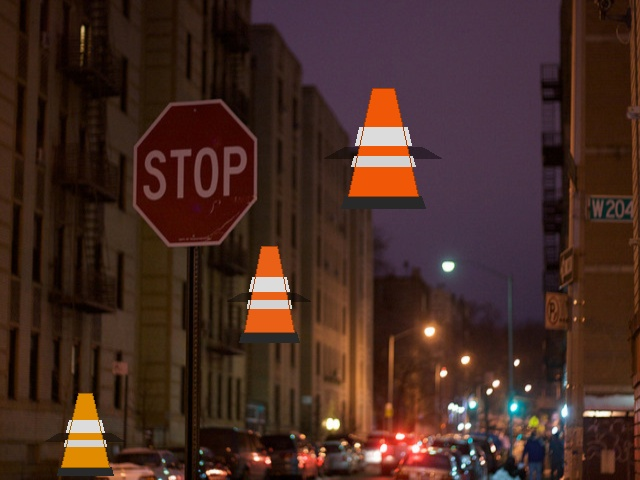traffic-cone: (341, 88, 425, 208), (239, 246, 299, 342), (57, 393, 113, 475)
